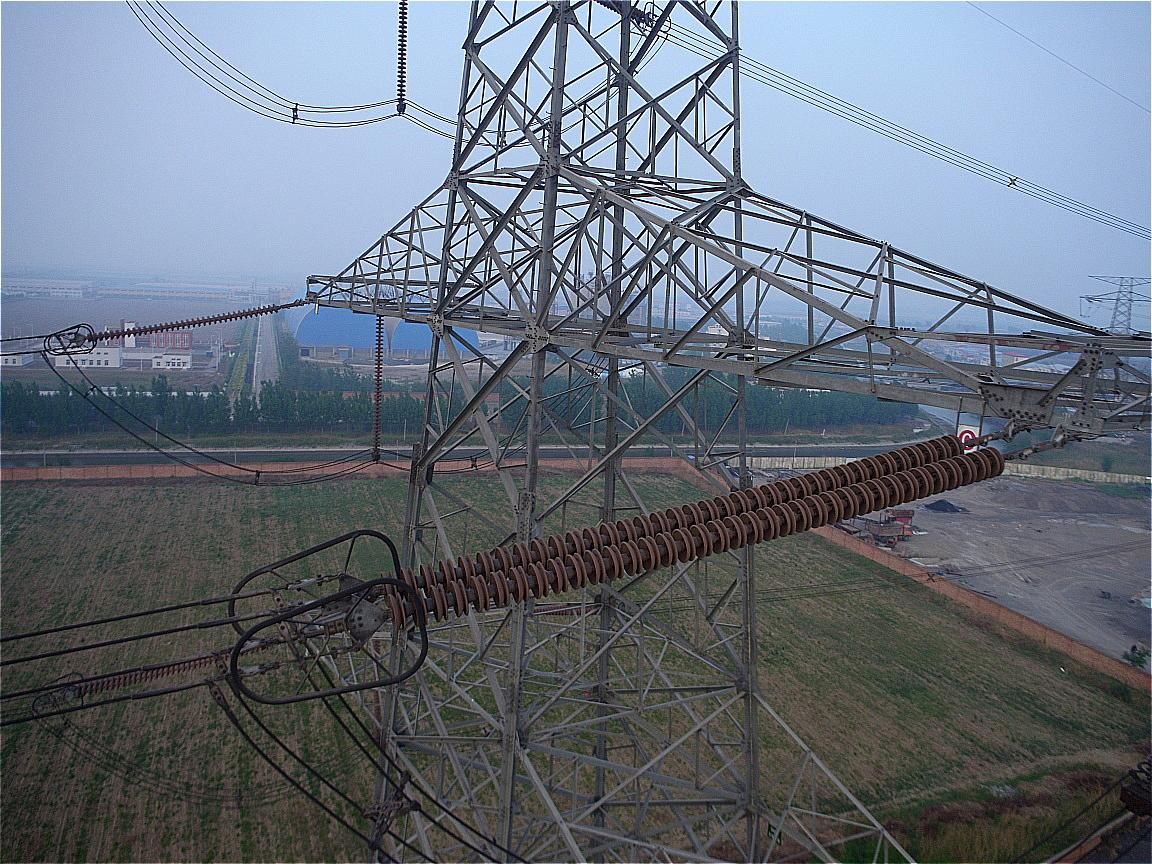insultor1: (86, 301, 280, 344)
insultor2: (383, 436, 1007, 633)
